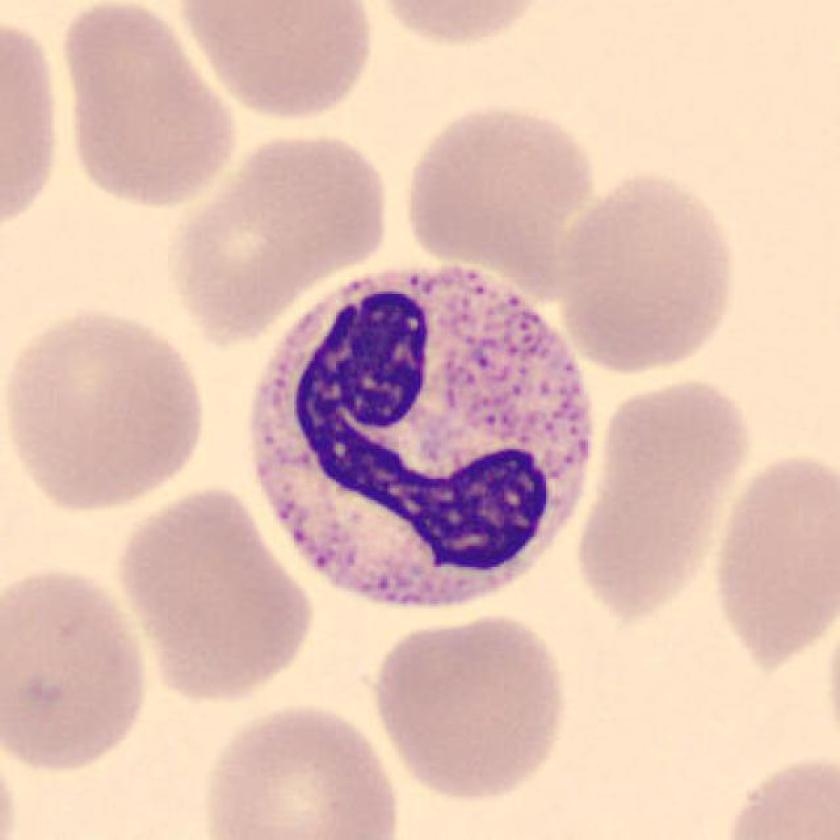neutrophil: (251, 267, 591, 608)
